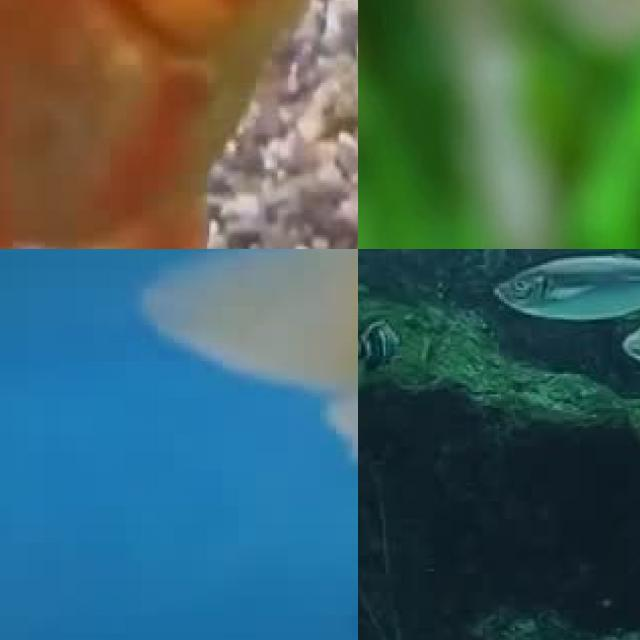fish: (0, 0, 358, 249), (190, 249, 358, 381)
